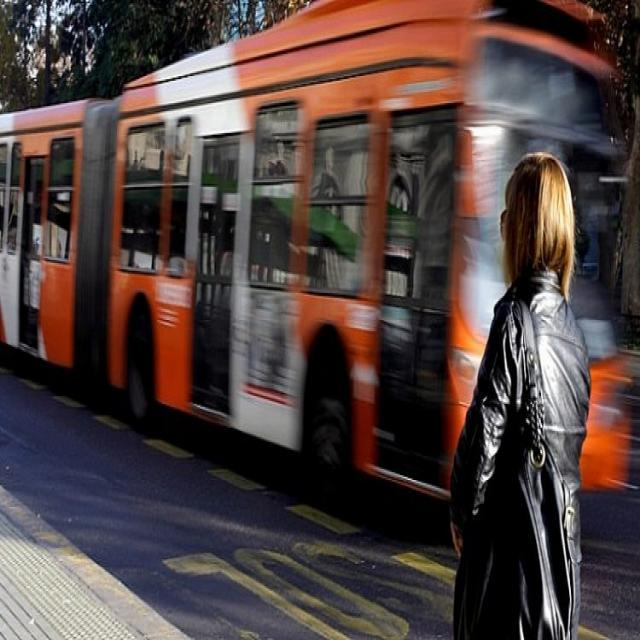AB: (1, 4, 631, 546)
